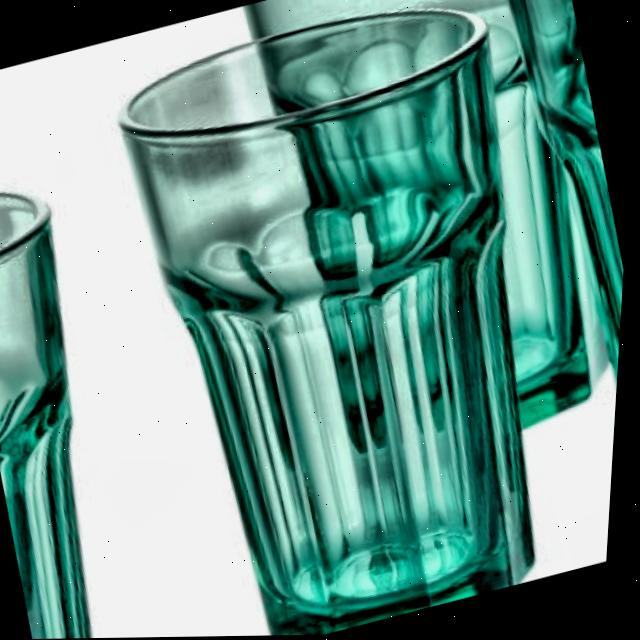glass: (113, 5, 546, 636)
